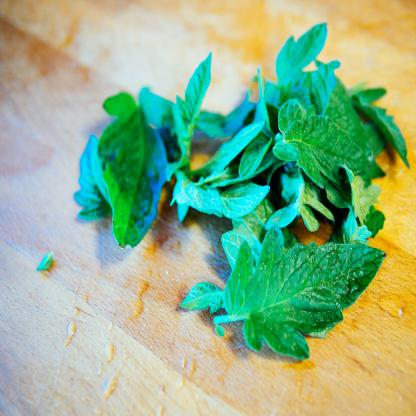Tomato leaf: (221, 239, 386, 374), (106, 87, 172, 271), (266, 104, 386, 192)
